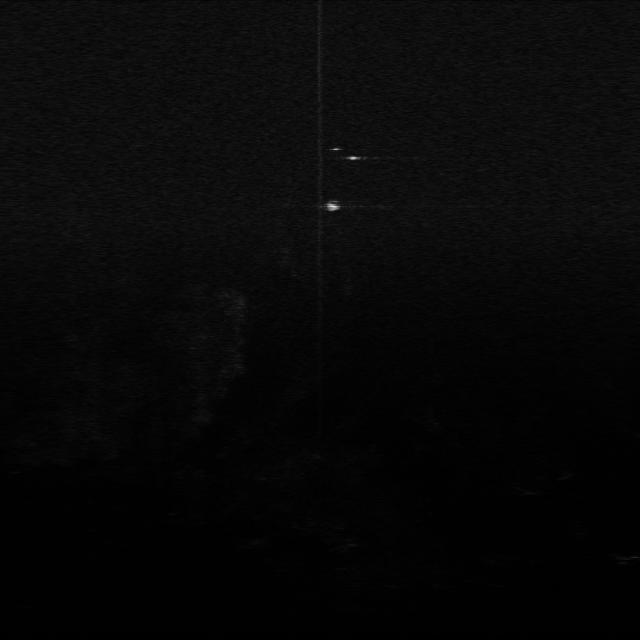rov: (322, 198, 343, 215)
